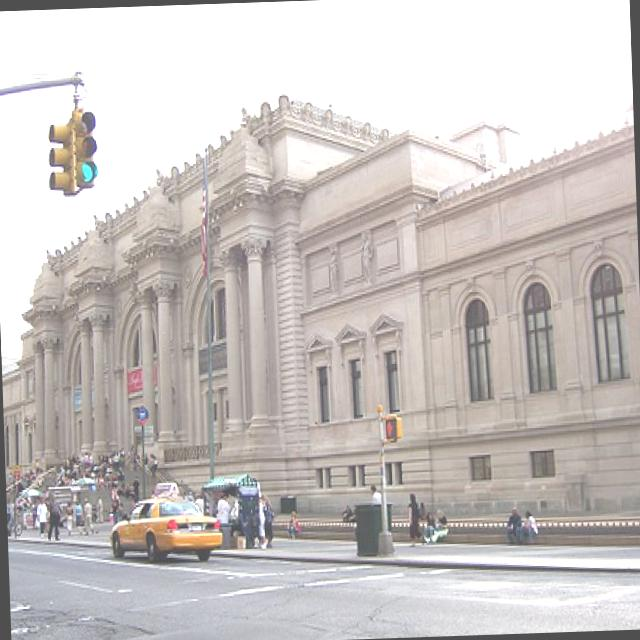Vehicle: (108, 493, 224, 567)
